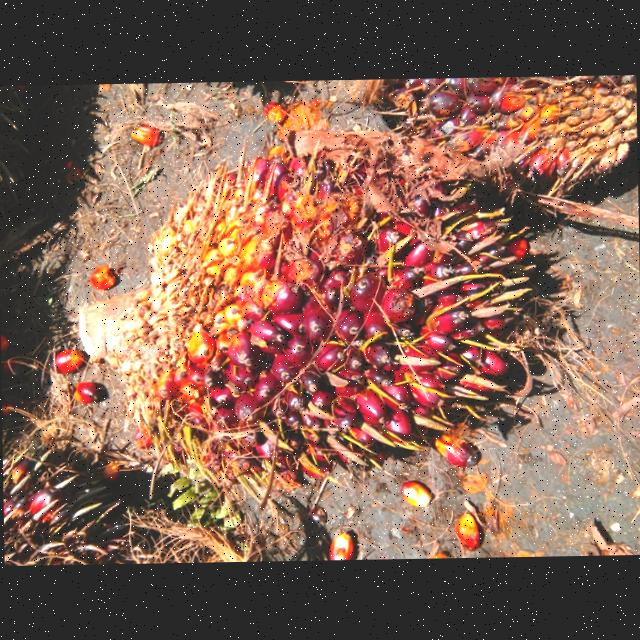Ripe: (79, 157, 533, 476), (385, 74, 638, 227)
